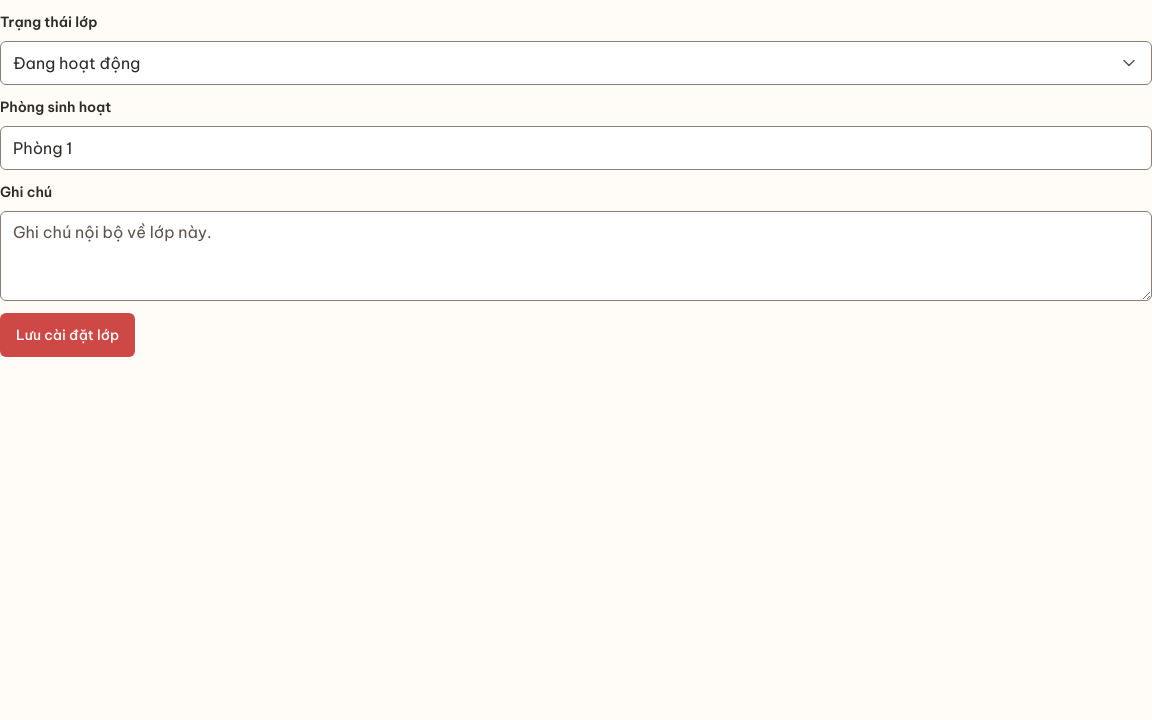
Test case: hộp xác nhận chỉ mở khi thật cần (BR-M02-N11) › đóng lớp còn em đang sinh hoạt: hỏi trước, nêu SỐ EM và TÊN LỚP
The image size is (1152, 720).
Select "Đã đóng" in the dropdown labelled "Trạng thái lớp": [49, 22] box [0,13,98,31]
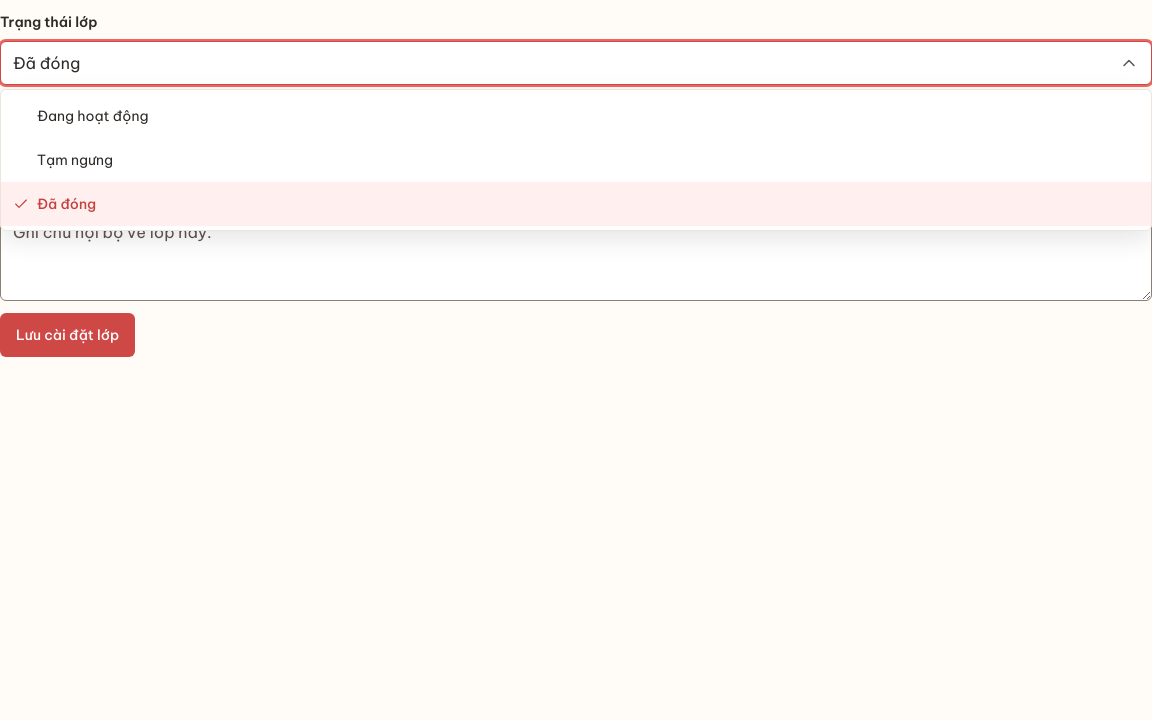
Click the button "Lưu cài đặt lớp": [68, 335] box [0,313,135,357]
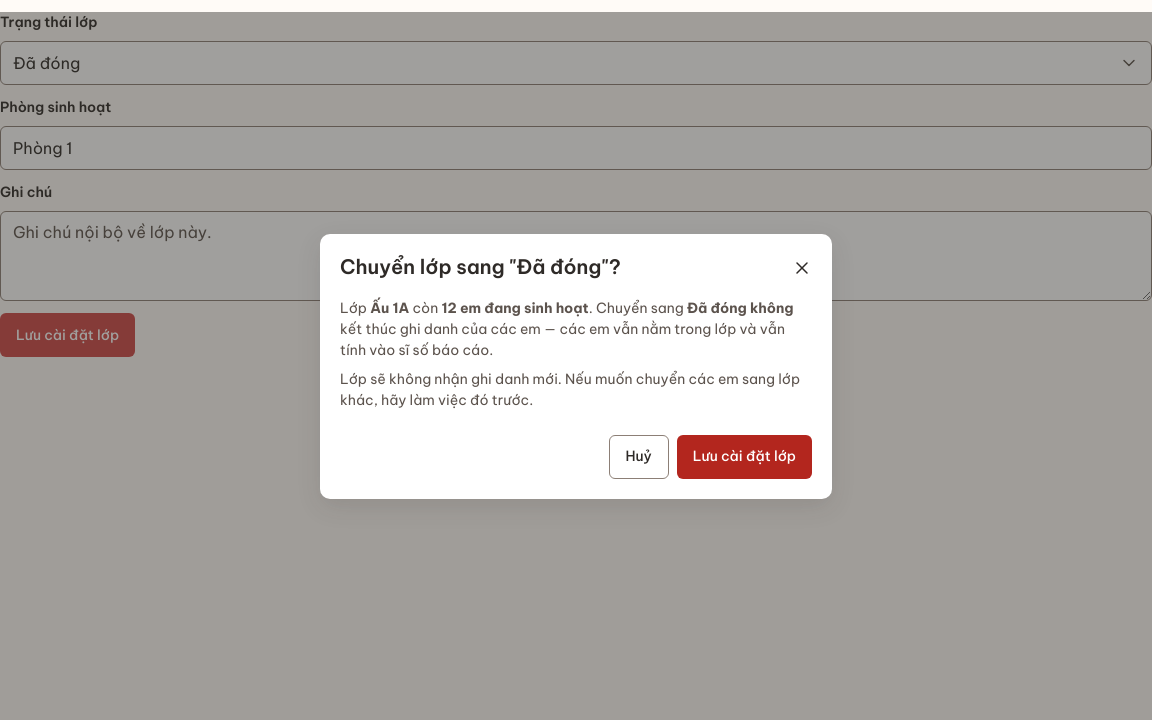
Check: the dialog shows "Ấu 1A", box [370,298,409,316]
Check: the dialog shows "12 em đang sinh hoạt", box [320,234,832,498]
